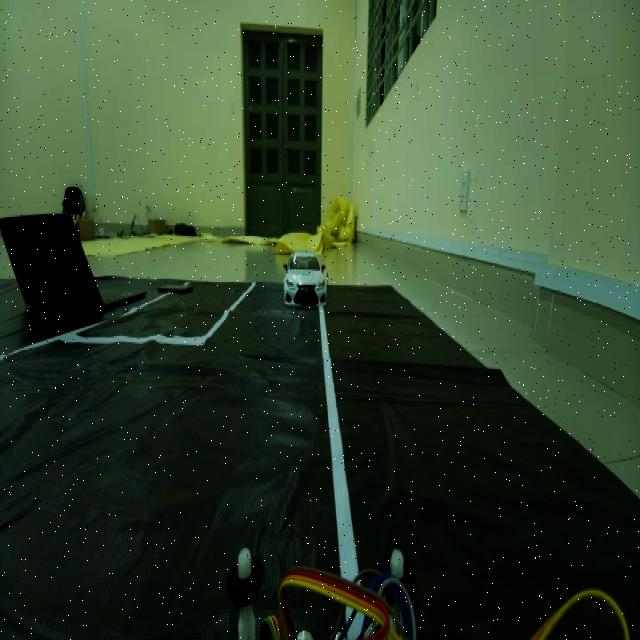car: (282, 244, 330, 314)
